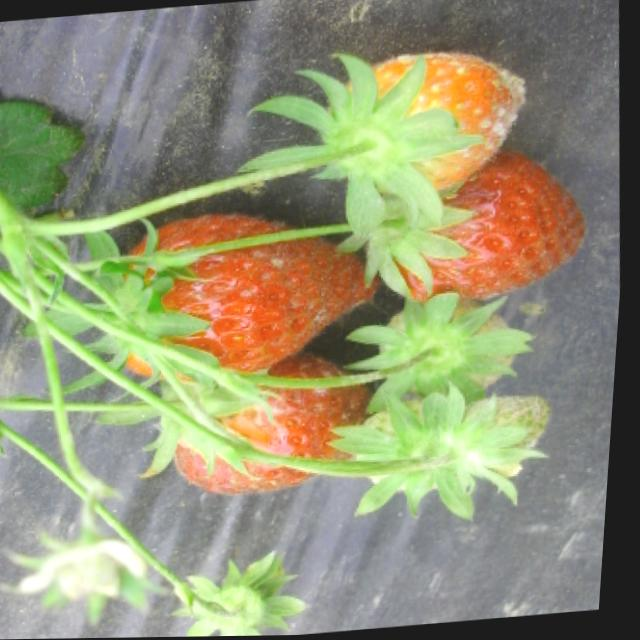Powdery Mildew Fruit: (326, 52, 525, 205)
